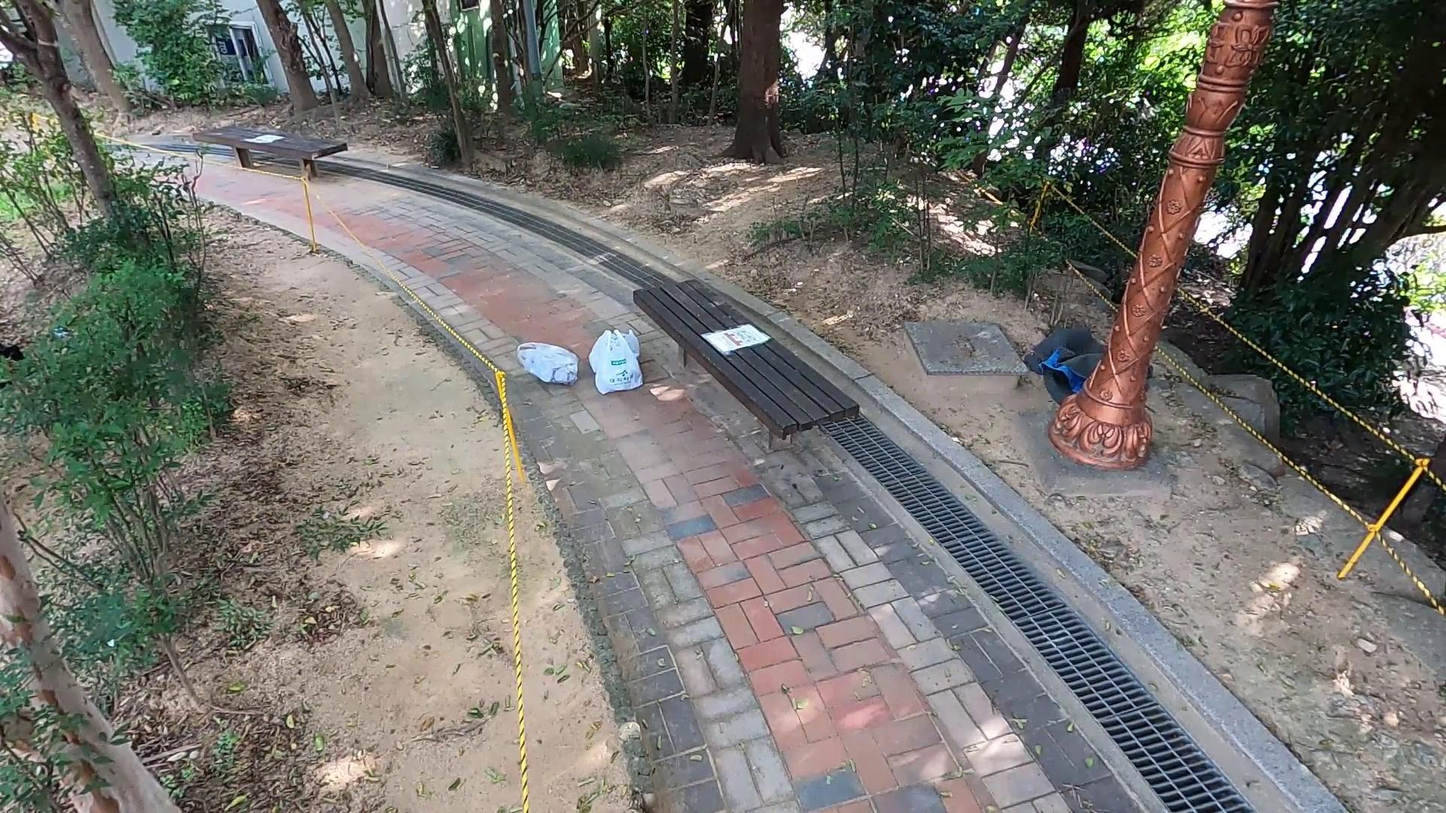trash: (1019, 324, 1158, 406), (595, 327, 644, 397), (515, 341, 581, 387), (588, 331, 641, 371)
